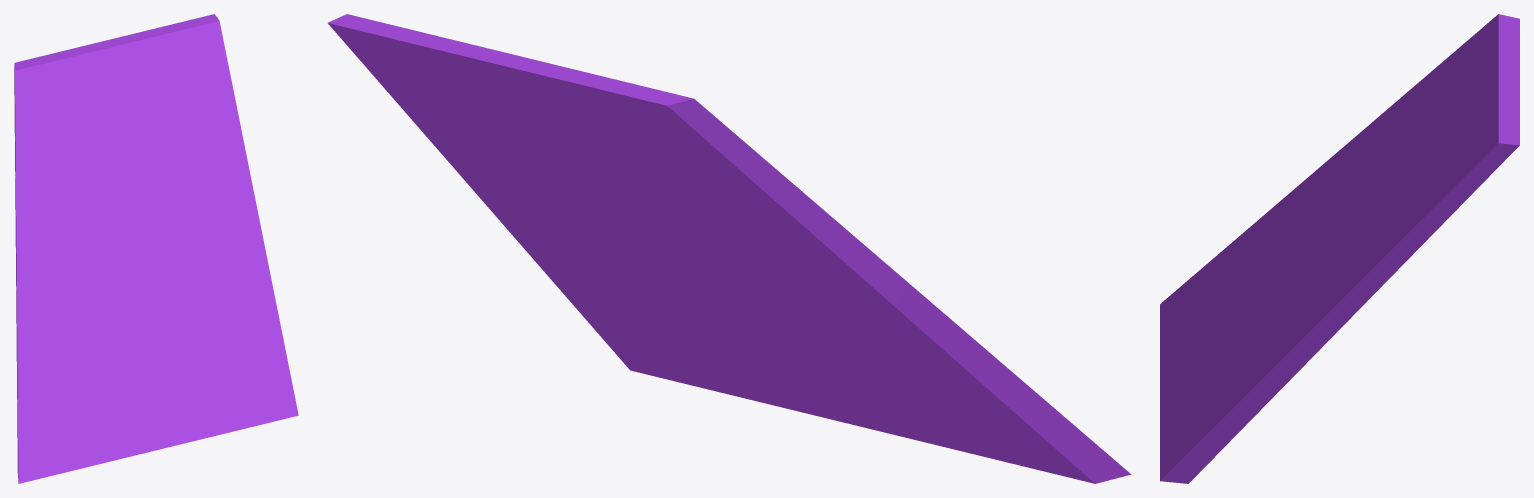
File: Window_93_chunks.fbx
3 views of the same model, side by side, from view 1: azimuth 30°, elevation 25°; view 2: azimuth 150°, elevation 25°; view 3: azimuth 270°, elevation 25° (orthographic). The views are drawn at different scales.
Parts seen in each view (by area): view 1: Window_93_3, Window_93_5, Window_93_11, Window_93_23, Window_93_6, Window_93_10, Window_93_7, Window_93_2, Window_93_15, Window_93_9, Window_93_27, Window_93_0 (+14 smaller); view 2: Window_93_3, Window_93_11, Window_93_10, Window_93_5, Window_93_9, Window_93_6, Window_93_7, Window_93_0, Window_93_27, Window_93_12, Window_93_19, Window_93_13 (+10 smaller); view 3: Window_93_3, Window_93_6, Window_93_5, Window_93_11, Window_93_10, Window_93_23, Window_93_7, Window_93_2, Window_93_15, Window_93_9, Window_93_27, Window_93_0 (+9 smaller).
Boxes of the visible parts, x1=… form: Window_93_3: x1=128, y1=249, x2=298, y2=416; Window_93_5: x1=134, y1=172, x2=278, y2=316; Window_93_11: x1=14, y1=48, x2=96, y2=194; Window_93_23: x1=85, y1=350, x2=191, y2=455; Window_93_6: x1=187, y1=14, x2=258, y2=216; Window_93_10: x1=76, y1=24, x2=170, y2=161; Window_93_7: x1=149, y1=16, x2=205, y2=148; Window_93_2: x1=65, y1=208, x2=143, y2=288; Window_93_15: x1=16, y1=230, x2=79, y2=330; Window_93_9: x1=15, y1=160, x2=138, y2=229; Window_93_27: x1=83, y1=277, x2=146, y2=382; Window_93_0: x1=15, y1=185, x2=76, y2=266; Window_93_3: x1=556, y1=249, x2=789, y2=374; Window_93_11: x1=562, y1=69, x2=817, y2=226; Window_93_10: x1=402, y1=37, x2=659, y2=199; Window_93_5: x1=483, y1=173, x2=676, y2=284; Window_93_9: x1=613, y1=178, x2=820, y2=259; Window_93_6: x1=328, y1=14, x2=528, y2=201; Window_93_7: x1=342, y1=22, x2=589, y2=185; Window_93_0: x1=733, y1=202, x2=864, y2=307; Window_93_27: x1=719, y1=263, x2=886, y2=381; Window_93_12: x1=893, y1=285, x2=1014, y2=403; Window_93_19: x1=760, y1=352, x2=928, y2=443; Window_93_13: x1=882, y1=343, x2=1123, y2=468; Window_93_3: x1=1160, y1=241, x2=1326, y2=483; Window_93_6: x1=1330, y1=131, x2=1519, y2=319; Window_93_5: x1=1245, y1=211, x2=1380, y2=400; Window_93_11: x1=1397, y1=14, x2=1519, y2=134; Window_93_10: x1=1399, y1=58, x2=1519, y2=180; Window_93_23: x1=1160, y1=300, x2=1243, y2=412; Window_93_7: x1=1400, y1=108, x2=1519, y2=206; Window_93_2: x1=1302, y1=159, x2=1373, y2=250; Window_93_15: x1=1275, y1=126, x2=1367, y2=240; Window_93_9: x1=1345, y1=110, x2=1410, y2=219; Window_93_27: x1=1225, y1=248, x2=1306, y2=313; Window_93_0: x1=1328, y1=94, x2=1404, y2=190.
Bounding box in the file's own units: 1159 × 947 × 833.
